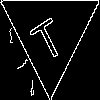T: (25, 8, 68, 64)
